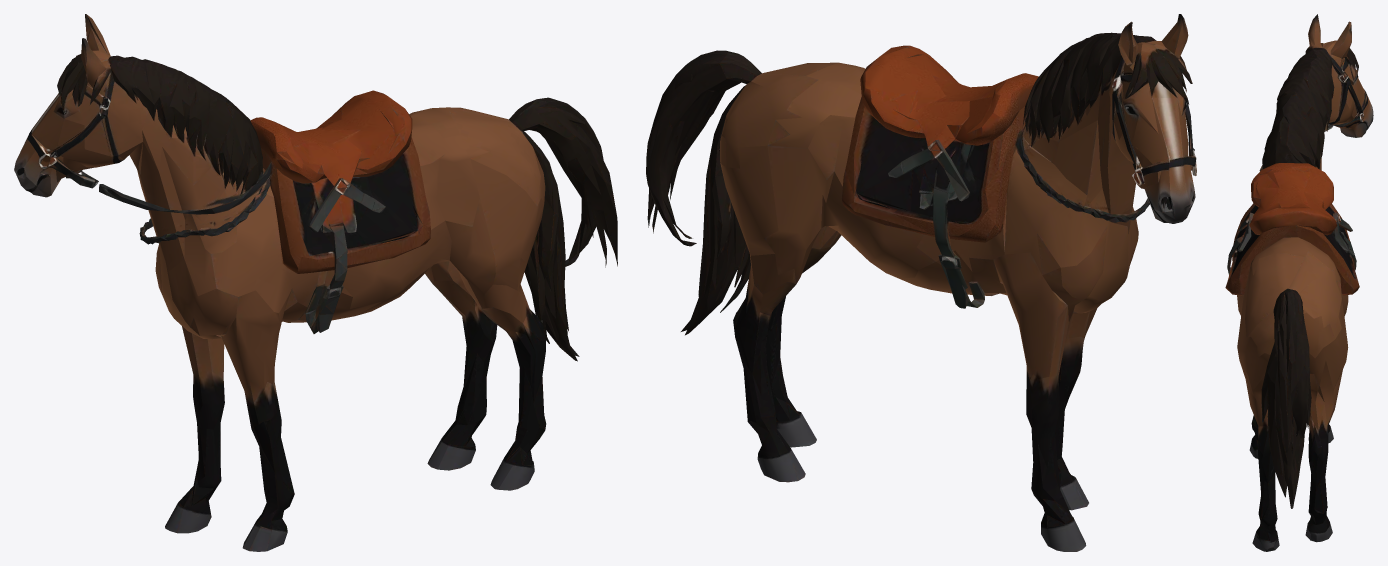
File: mount_ngua-nguyen.glb
3 renders of one model, left to right at view 1: azimuth 30°, elevation 25°; view 2: azimuth 150°, elevation 25°; view 3: azimuth 270°, elevation 25°, orthographic. The views are drawn at different scales.
Bounding box in the file's own units: 1.9 × 1.7 × 0.5871.
Materials: 1 (1 with a texture image).
